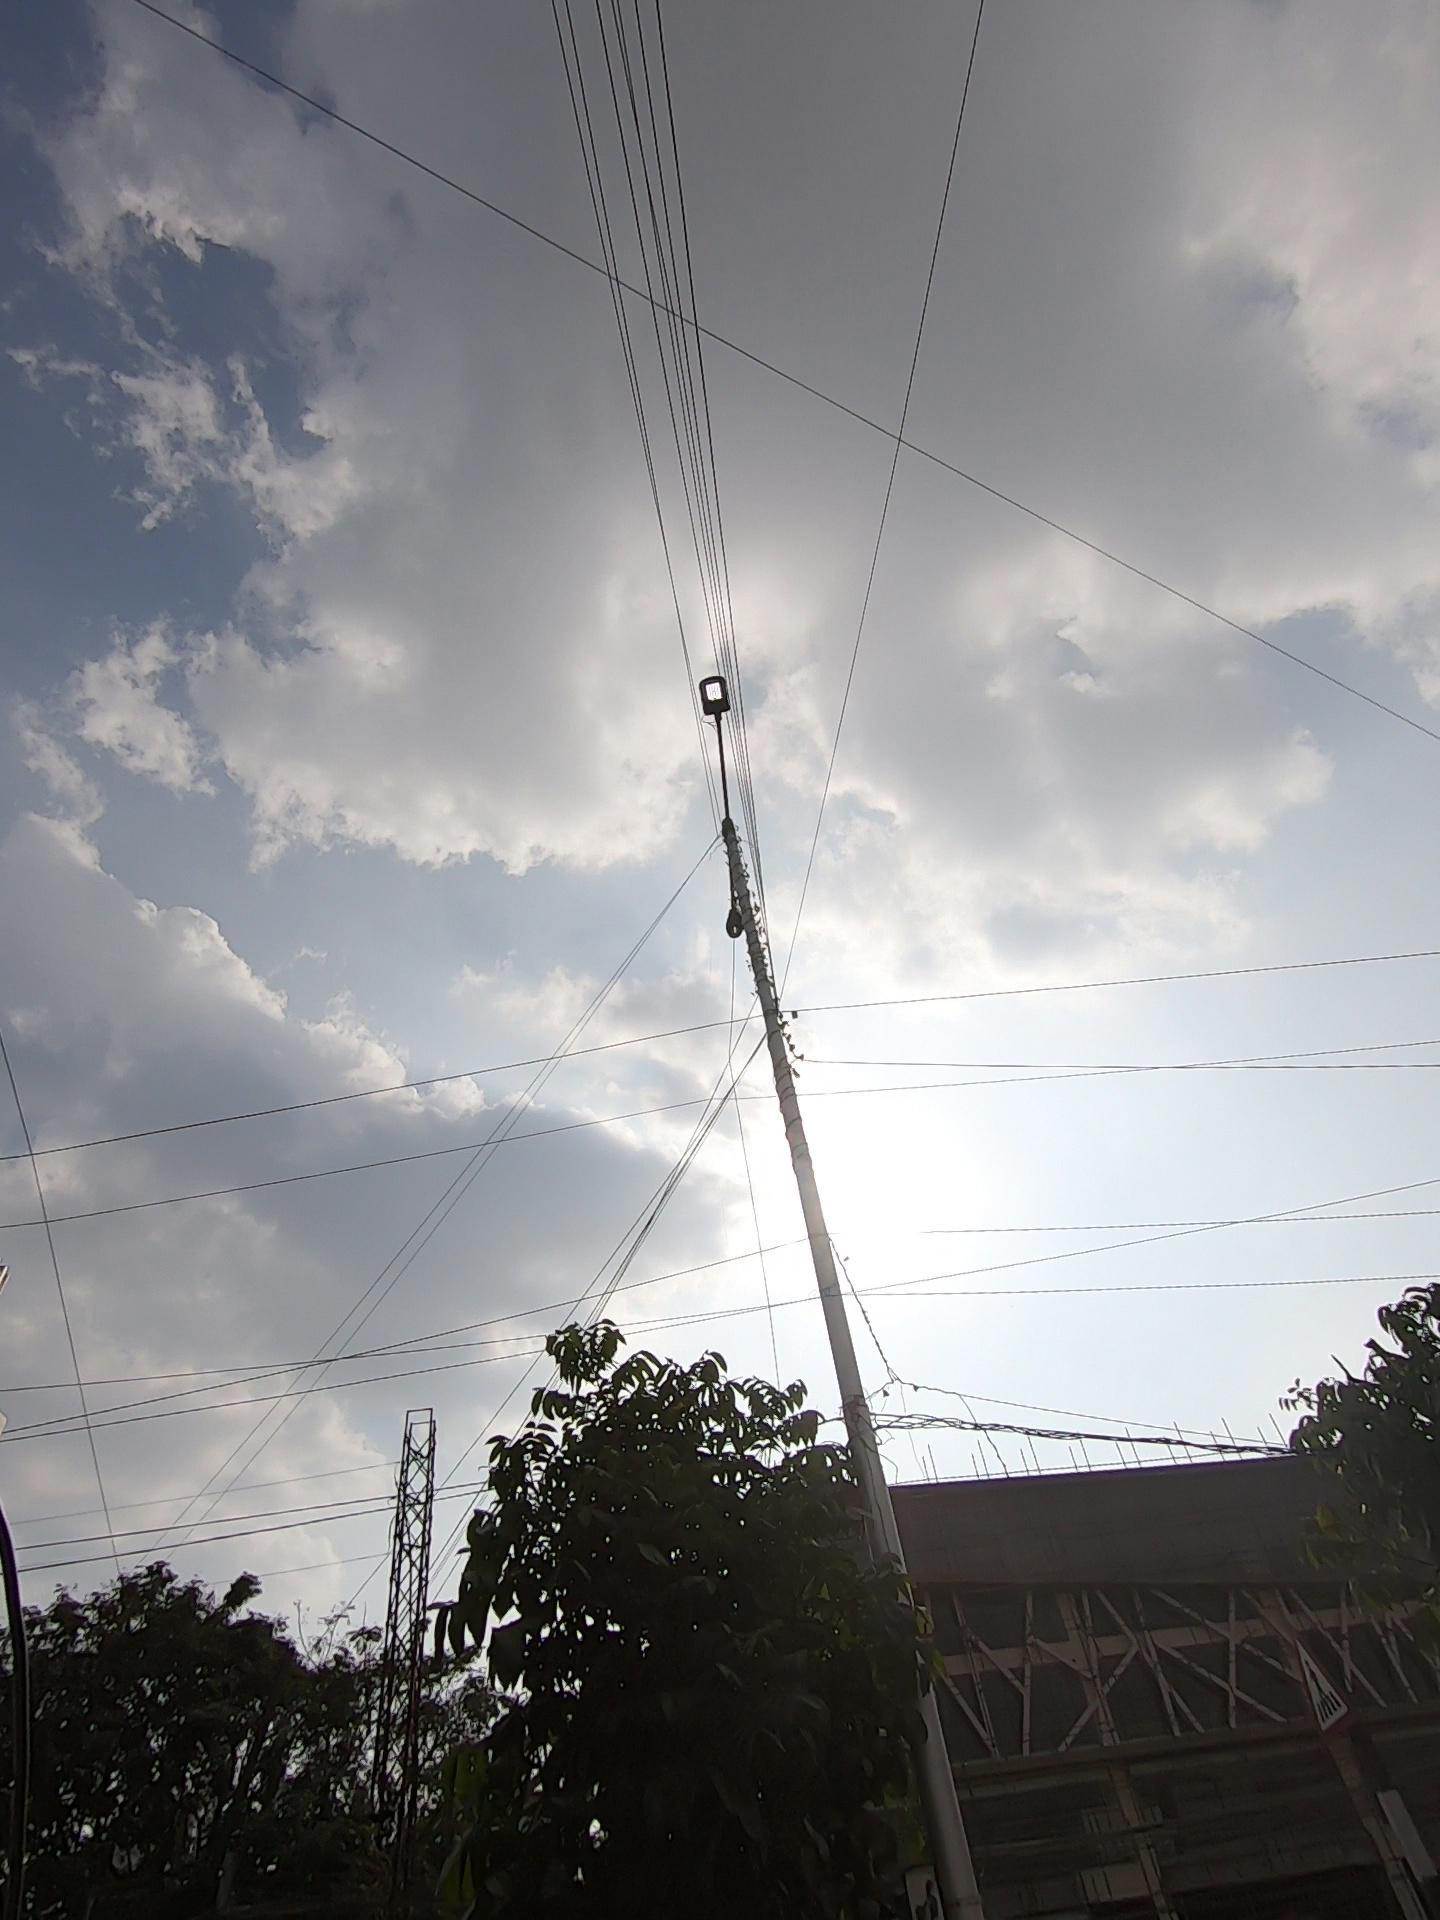off: (585, 615, 832, 1016)
